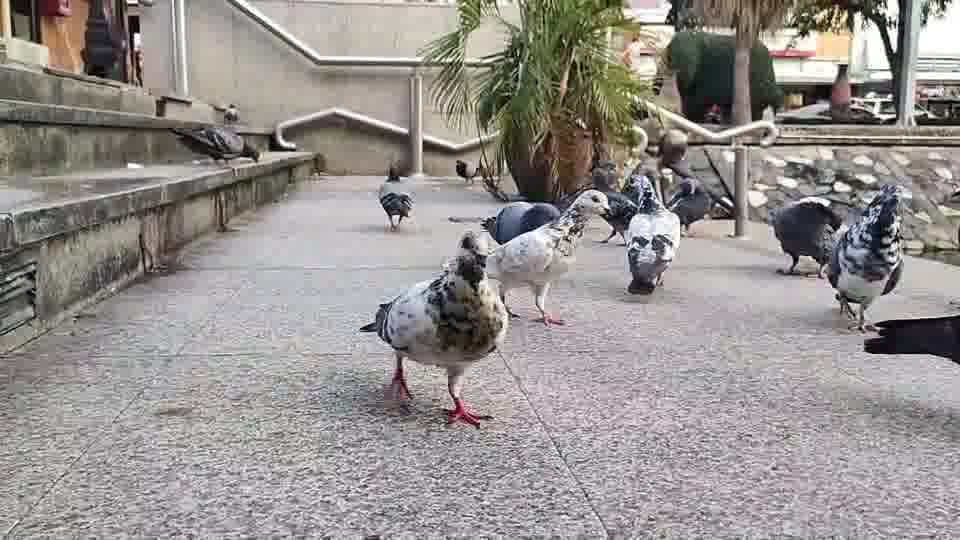Pigeon: (358, 252, 508, 428), (483, 187, 610, 329), (824, 182, 905, 331), (622, 174, 681, 295), (767, 195, 842, 278), (862, 312, 959, 365), (167, 124, 260, 164), (376, 162, 415, 231), (454, 158, 482, 184)
